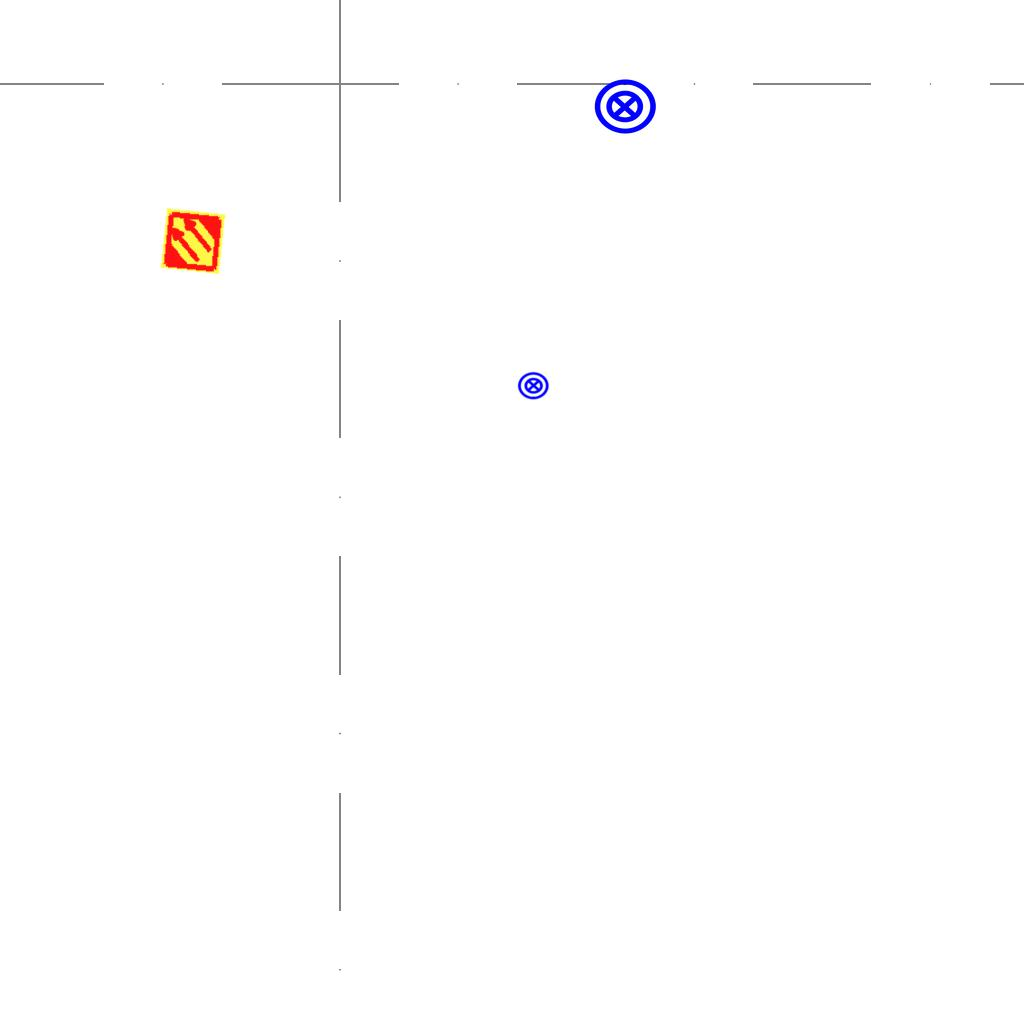ASR_Ansaugrauchmelder: (158, 206, 228, 276)
Taster_beleuchtet: (592, 74, 658, 140), (517, 369, 550, 402)
